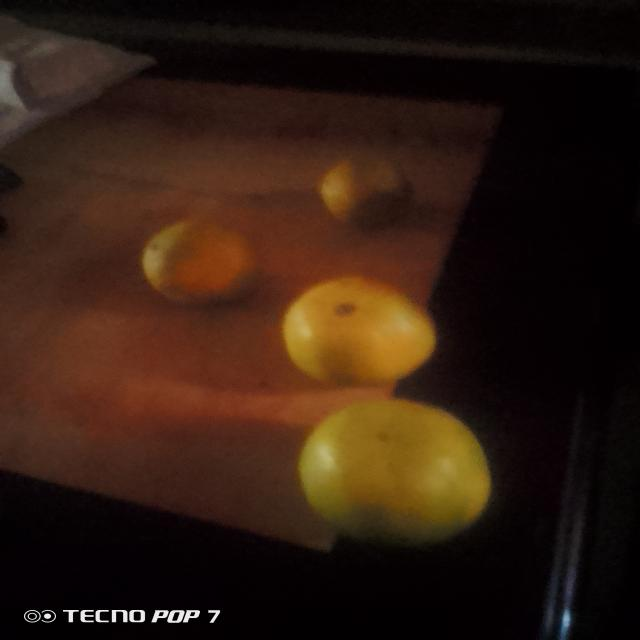Ripe orange: (293, 408, 489, 545), (277, 263, 452, 392), (128, 220, 277, 304), (308, 141, 421, 237)
